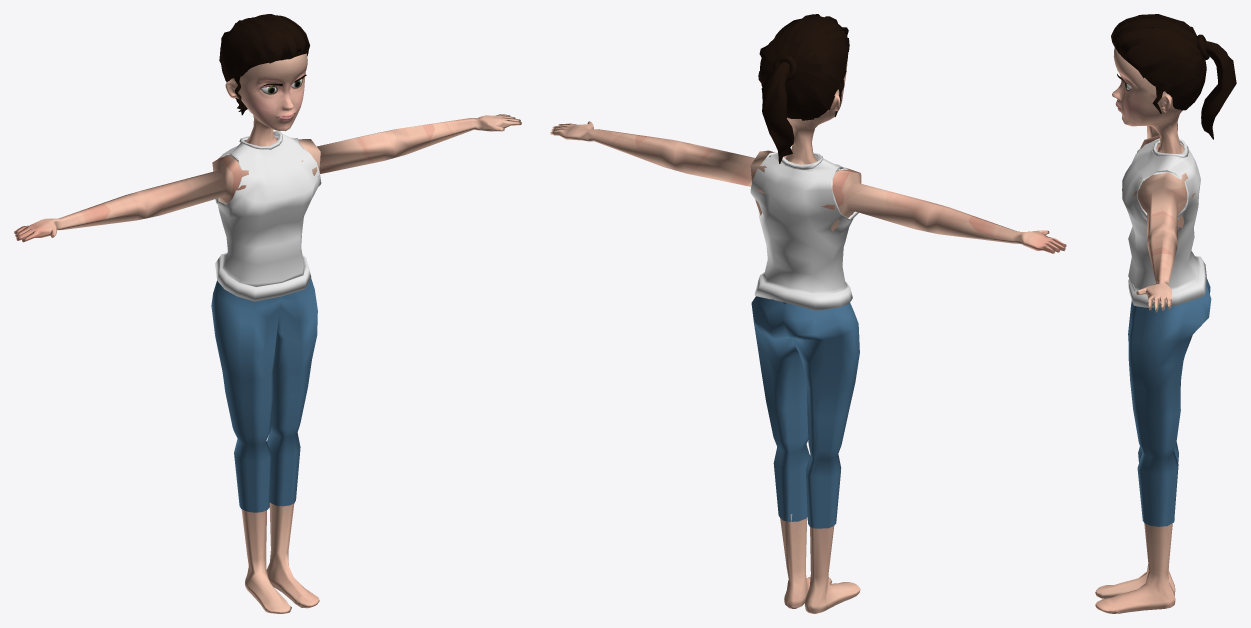
The model's file is face bland shaps.fbx.
The picture shows the model from 3 angles, left to right: view 1: azimuth 30°, elevation 25°; view 2: azimuth 150°, elevation 25°; view 3: azimuth 270°, elevation 25°; orthographic projection.
Visible parts, largest first — view 1: polySurface364, polySurface359, polySurface361, polySurface363, polySurface366, polySurface327, polySurface360, polySurface362; view 2: polySurface364, polySurface359, polySurface327, polySurface361, polySurface363, polySurface360, polySurface362, polySurface366; view 3: polySurface364, polySurface327, polySurface359, polySurface363, polySurface366, polySurface362, polySurface360, polySurface361.
Boxes of the visible parts, x1=… form: polySurface364: x1=211, y1=278, x2=317, y2=512; polySurface359: x1=213, y1=131, x2=321, y2=301; polySurface361: x1=14, y1=155, x2=248, y2=242; polySurface363: x1=277, y1=114, x2=521, y2=176; polySurface366: x1=225, y1=53, x2=307, y2=146; polySurface327: x1=219, y1=14, x2=309, y2=115; polySurface360: x1=241, y1=509, x2=291, y2=613; polySurface362: x1=266, y1=503, x2=319, y2=608; polySurface364: x1=751, y1=296, x2=859, y2=528; polySurface359: x1=750, y1=149, x2=858, y2=310; polySurface327: x1=758, y1=14, x2=849, y2=163; polySurface361: x1=821, y1=168, x2=1066, y2=253; polySurface363: x1=550, y1=121, x2=786, y2=215; polySurface360: x1=804, y1=526, x2=860, y2=613; polySurface362: x1=780, y1=514, x2=831, y2=608; polySurface366: x1=785, y1=60, x2=847, y2=164; polySurface364: x1=1128, y1=279, x2=1211, y2=526; polySurface327: x1=1111, y1=14, x2=1236, y2=139; polySurface359: x1=1122, y1=138, x2=1206, y2=307; polySurface363: x1=1133, y1=172, x2=1195, y2=312; polySurface366: x1=1112, y1=47, x2=1184, y2=153; polySurface362: x1=1095, y1=523, x2=1175, y2=613; polySurface360: x1=1095, y1=564, x2=1175, y2=598; polySurface361: x1=1140, y1=124, x2=1184, y2=150.
Size of the model in its own units: 6.1 by 6.64 by 1.46.
